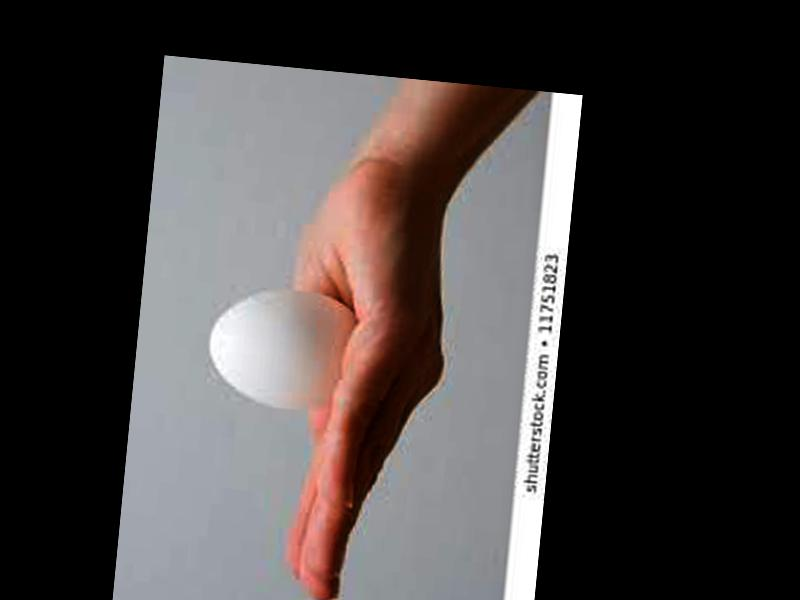Eggs: (205, 289, 358, 414)
